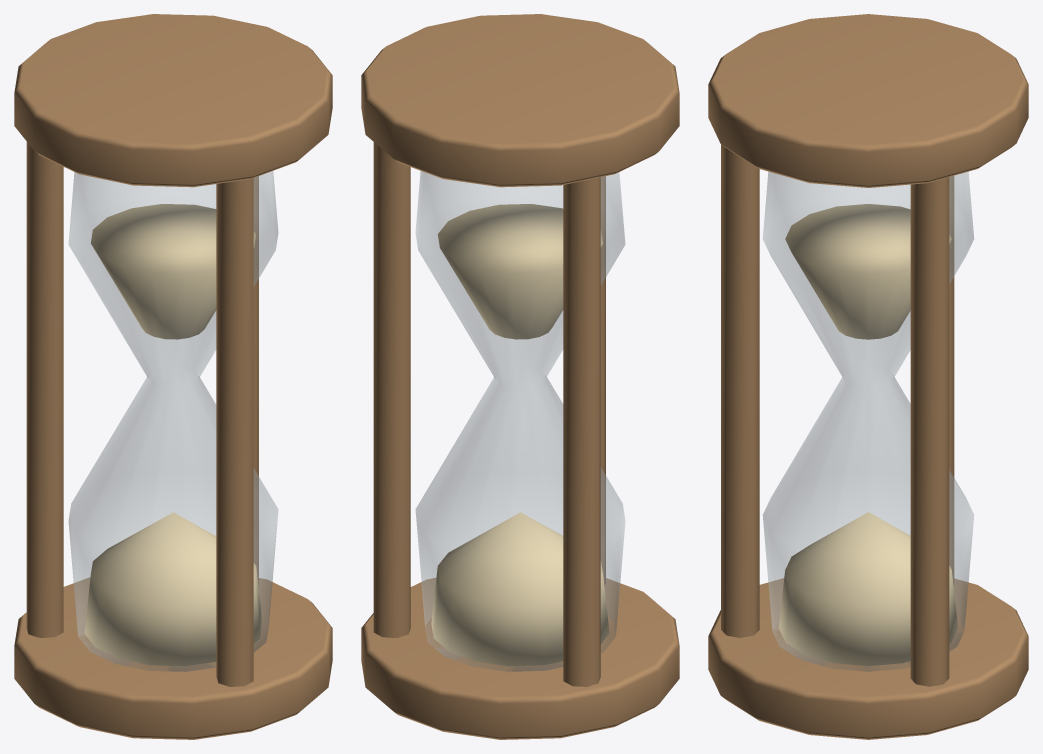
The model's file is Hourglass.fbx.
The picture shows the model from 3 angles, left to right: view 1: azimuth 30°, elevation 25°; view 2: azimuth 150°, elevation 25°; view 3: azimuth 270°, elevation 25°; orthographic projection.
Parts seen in each view (by area): view 1: Hourglass_Mesh; view 2: Hourglass_Mesh; view 3: Hourglass_Mesh.
Boxes of the visible parts, x1,y1,x2,y2 form: Hourglass_Mesh: (14, 14, 332, 739); Hourglass_Mesh: (361, 14, 679, 739); Hourglass_Mesh: (708, 14, 1028, 739).
Bounding box in the file's own units: 0.1 × 0.205 × 0.1.
